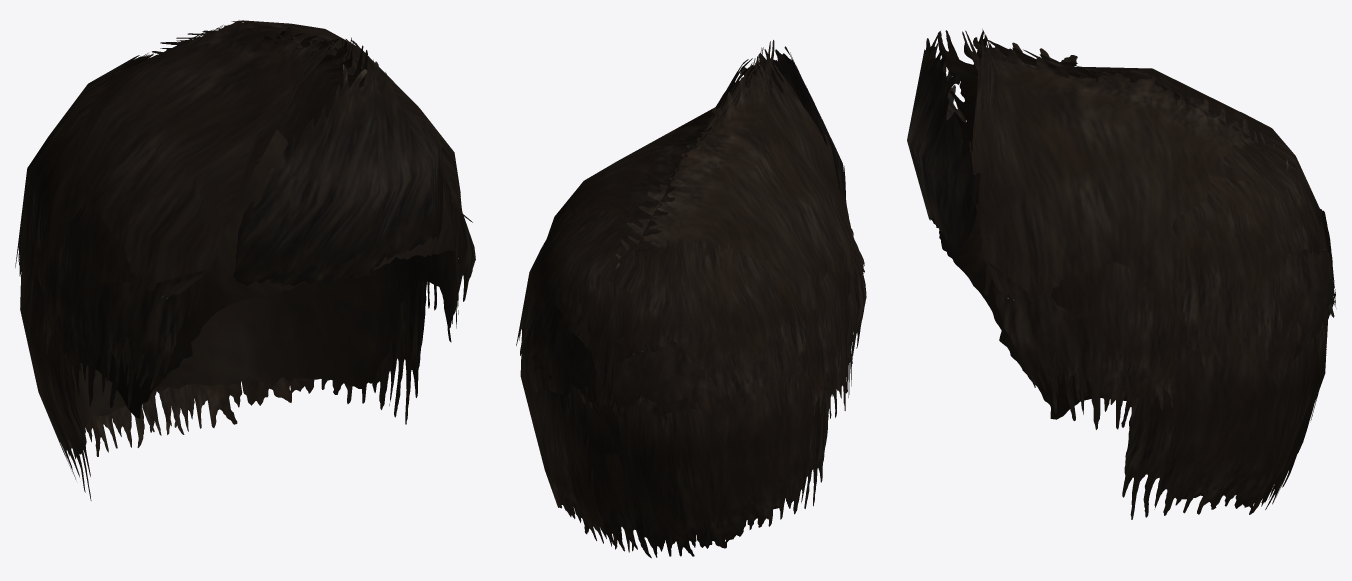
File: hair_008.fbx
3 renders of one model, left to right at view 1: azimuth 30°, elevation 25°; view 2: azimuth 150°, elevation 25°; view 3: azimuth 270°, elevation 25°, orthographic. The views are drawn at different scales.
Parts seen in each view (by area): view 1: hair_008; view 2: hair_008; view 3: hair_008.
Boxes of the visible parts, x1=… form: hair_008: x1=15, y1=20, x2=475, y2=500; hair_008: x1=516, y1=40, x2=866, y2=558; hair_008: x1=907, y1=29, x2=1336, y2=519.
Size of the model in its own units: 18.76 by 28 by 21.89.
